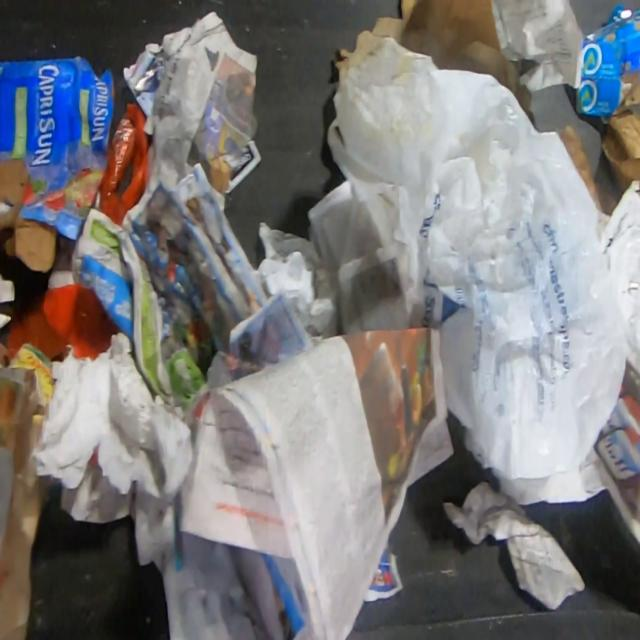cardboard: (0, 57, 114, 269), (336, 0, 516, 90), (575, 4, 640, 115), (559, 125, 601, 211), (602, 109, 640, 194)
soft_plastic: (326, 41, 626, 482), (6, 266, 121, 362), (92, 105, 147, 229)
